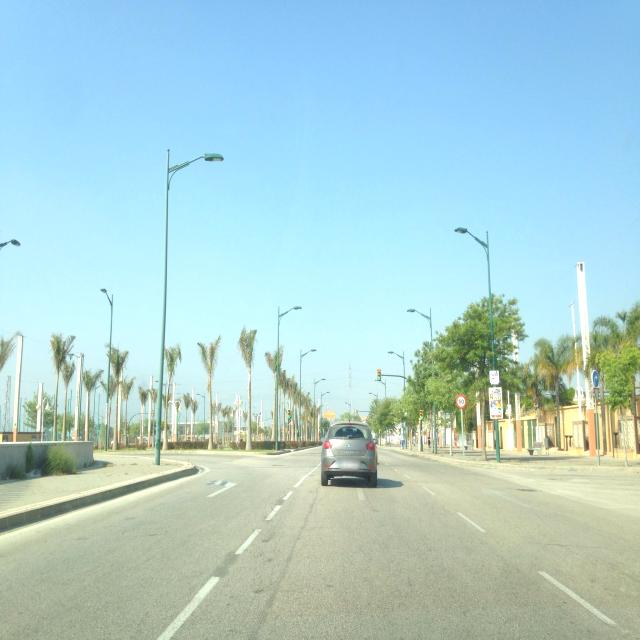car: (320, 418, 378, 488)
